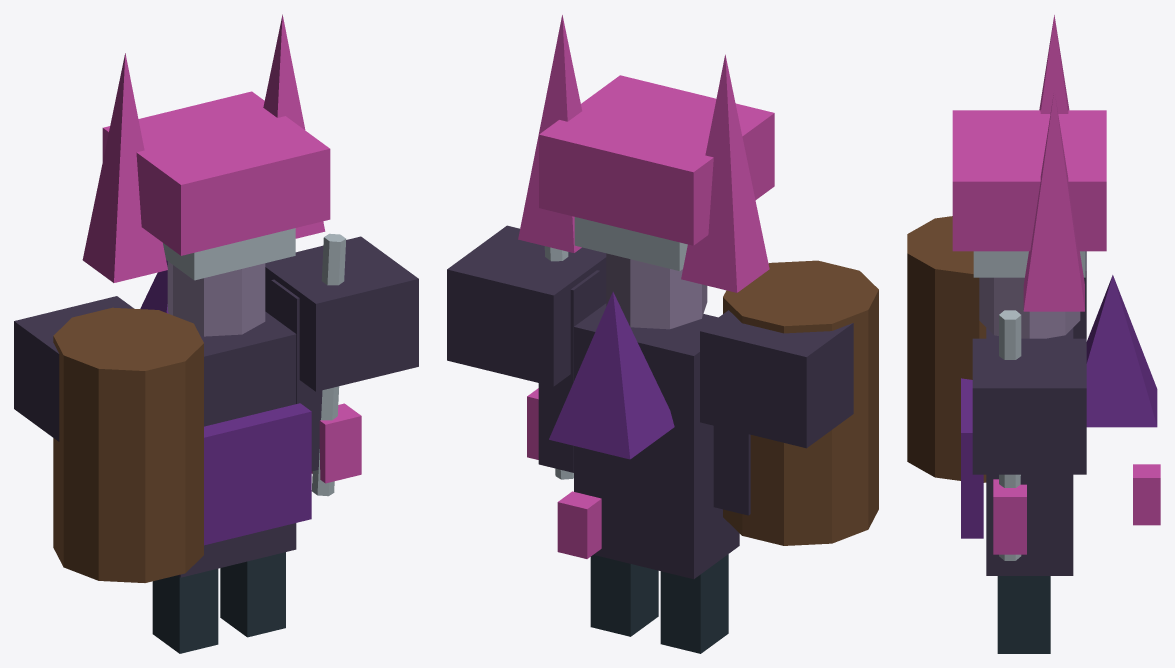
Rendered from heavy-infantry.obj.
3 views of the same model, side by side, from view 1: azimuth 30°, elevation 25°; view 2: azimuth 150°, elevation 25°; view 3: azimuth 270°, elevation 25° (orthographic). The views are drawn at different scales.
Visible parts, largest first — view 1: infantry; view 2: infantry; view 3: infantry.
Boxes of the visible parts, <box> form: infantry: <box>14,14,418,653</box>; infantry: <box>447,15,878,653</box>; infantry: <box>907,15,1160,653</box>.
Size of the model in its own units: 1.3 by 2.07 by 0.8225.
